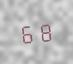eight: (36, 20, 52, 42)
six: (19, 21, 35, 44)
